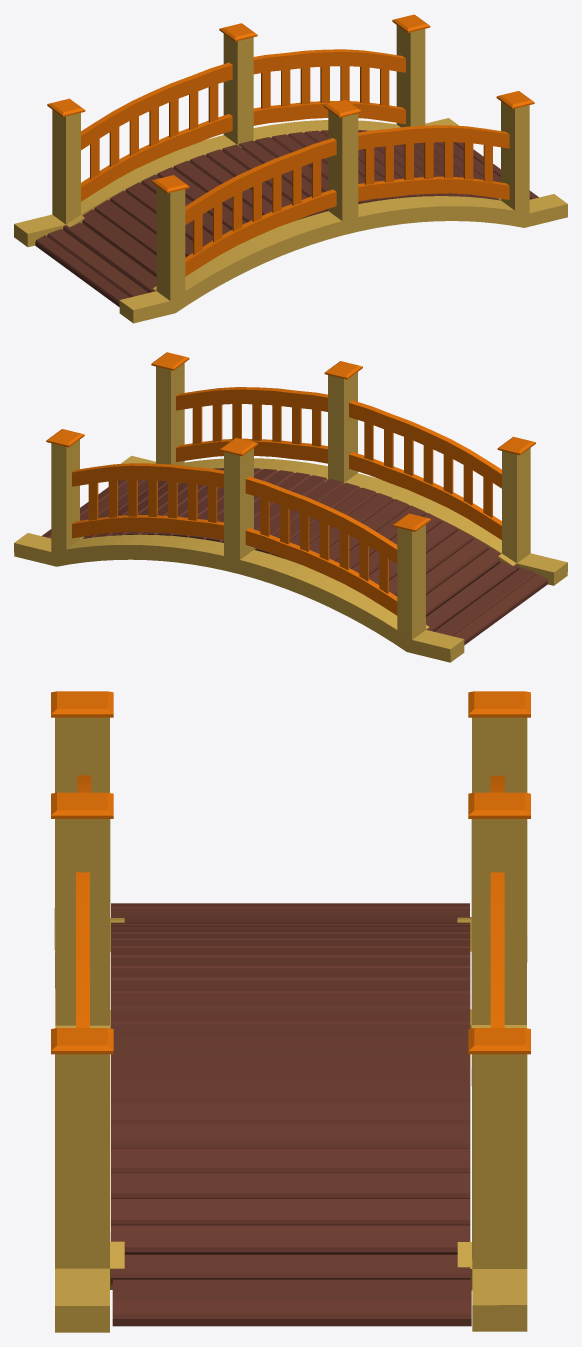
The model's file is Pol.fbx.
3 renders of one model, top to bottom at view 1: azimuth 30°, elevation 25°; view 2: azimuth 150°, elevation 25°; view 3: azimuth 270°, elevation 25°, orthographic. The views are drawn at different scales.
Parts seen in each view (by area): view 1: pCube2, polySurface1, pCube1, pCube20, pCube21, pCube18, pCube19, polySurface25, polySurface24, pCube3, pCube5, pCube6 (+3 smaller); view 2: pCube1, polySurface1, pCube2, pCube21, pCube20, pCube19, pCube18, polySurface25, polySurface24, pCube3, pCube5, pCube8 (+3 smaller); view 3: polySurface1, pCube1, pCube2, polySurface24, polySurface25, pCube19, pCube18, pCube4, pCube8, pCube5, pCube6, pCube3 (+1 smaller).
Boxes of the visible parts, x1,y1,x2,y2 form: pCube2: (119,101,567,323); polySurface1: (82,130,498,277); pCube1: (14,25,459,246); pCube20: (81,62,232,201); pCube21: (185,138,336,276); pCube18: (358,125,509,201); pCube19: (253,49,405,125); polySurface25: (35,222,156,306); polySurface24: (423,142,538,199); pCube3: (219,23,257,41); pCube5: (47,98,85,116); pCube6: (151,175,189,193); pCube1: (14,440,464,662); polySurface1: (82,468,500,616); pCube2: (120,363,567,585); pCube21: (349,400,501,539); pCube20: (245,476,397,615); pCube19: (72,463,223,539); pCube18: (176,387,327,463); polySurface25: (426,561,547,645); polySurface24: (41,480,158,538); pCube3: (220,437,257,456); pCube5: (393,513,430,531); pCube8: (151,352,189,370); polySurface1: (111,922,470,1254); pCube1: (457,717,527,1331); pCube2: (54,717,124,1332); polySurface24: (111,1254,471,1326); polySurface25: (111,903,471,922); pCube19: (490,872,504,1027); pCube18: (76,872,89,1027); pCube4: (468,1028,530,1054); pCube8: (51,1028,113,1054); pCube5: (468,691,530,717); pCube6: (51,691,113,717); pCube3: (468,792,530,818).
Size of the model in its own units: 32.06 by 11.19 by 15.28.
